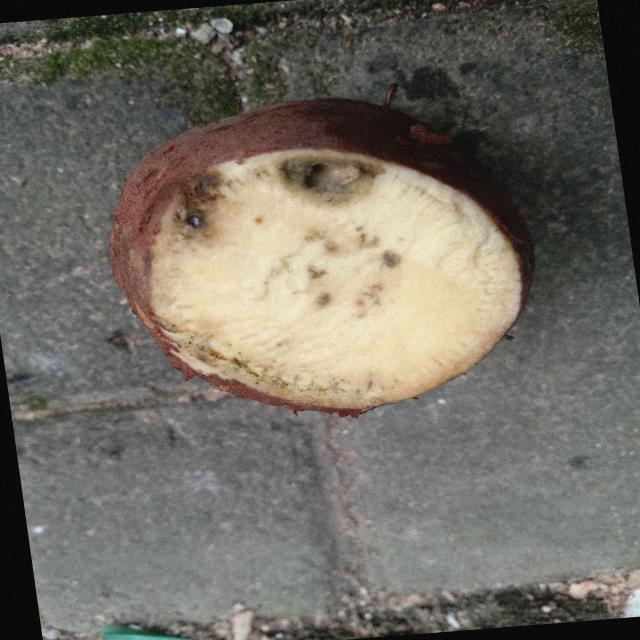Sick Sweet Potato_Tuber Rot: (150, 150, 525, 412)
